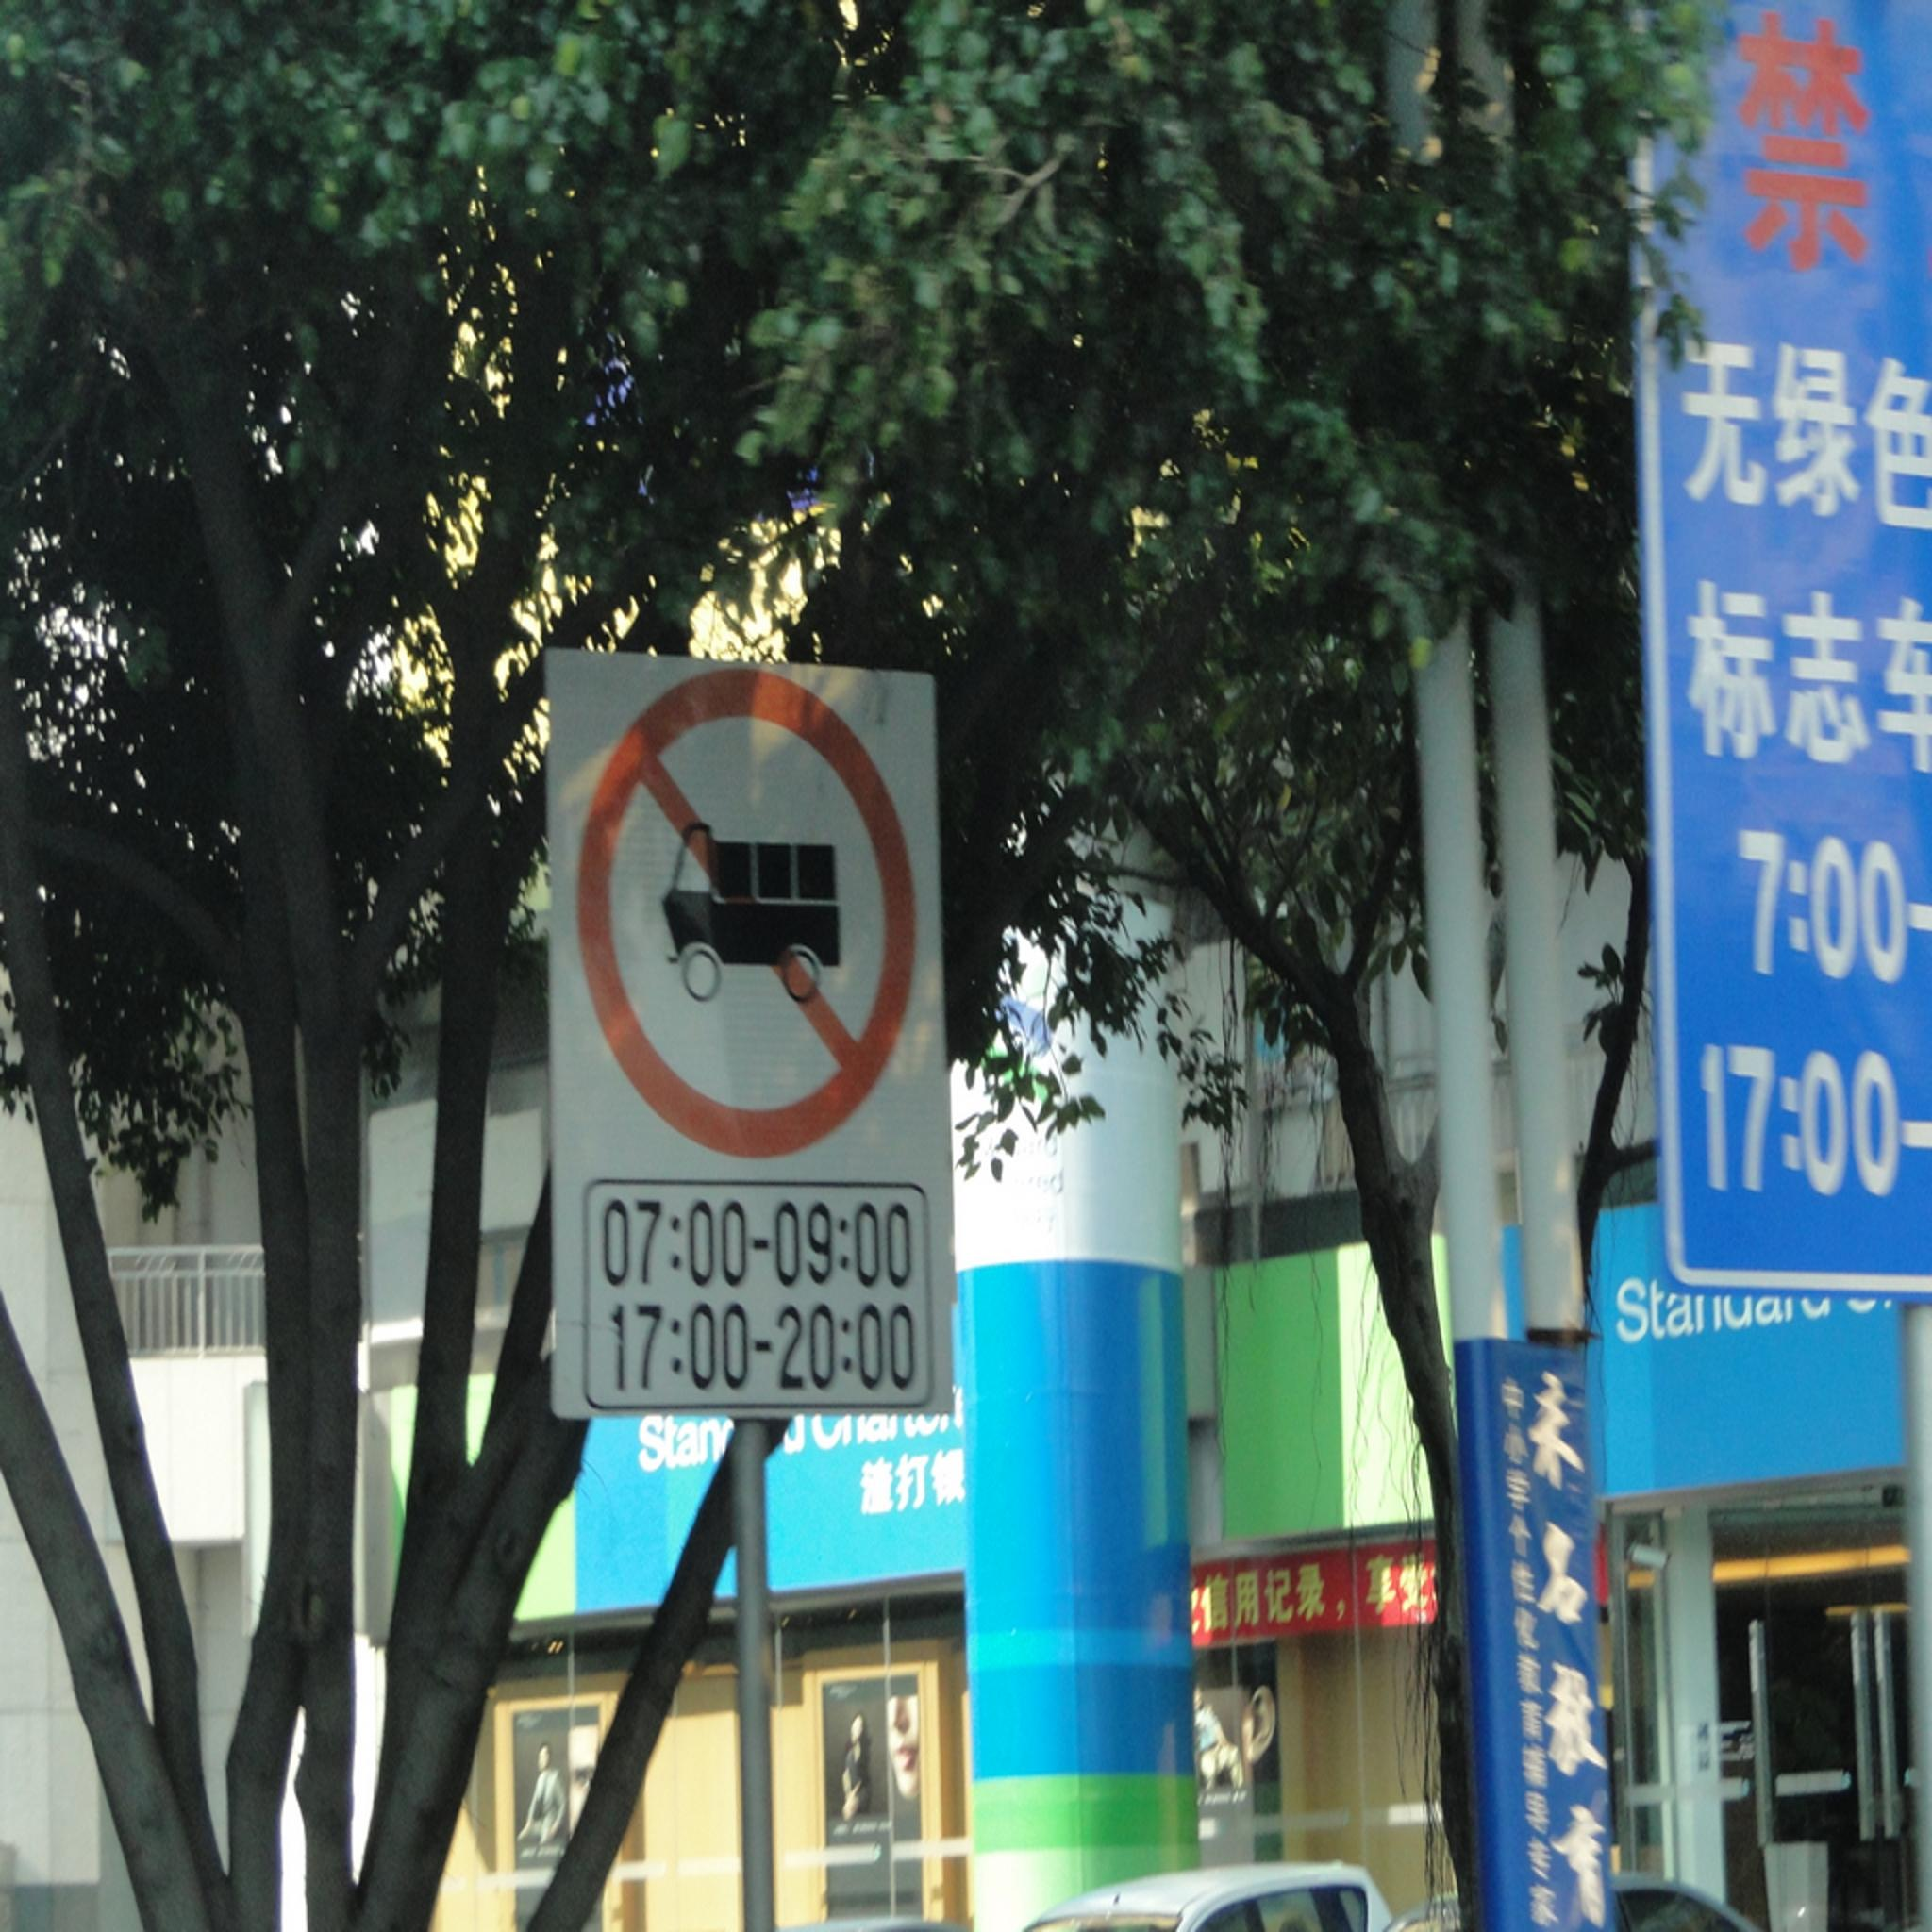p26: (584, 674, 911, 1155)
